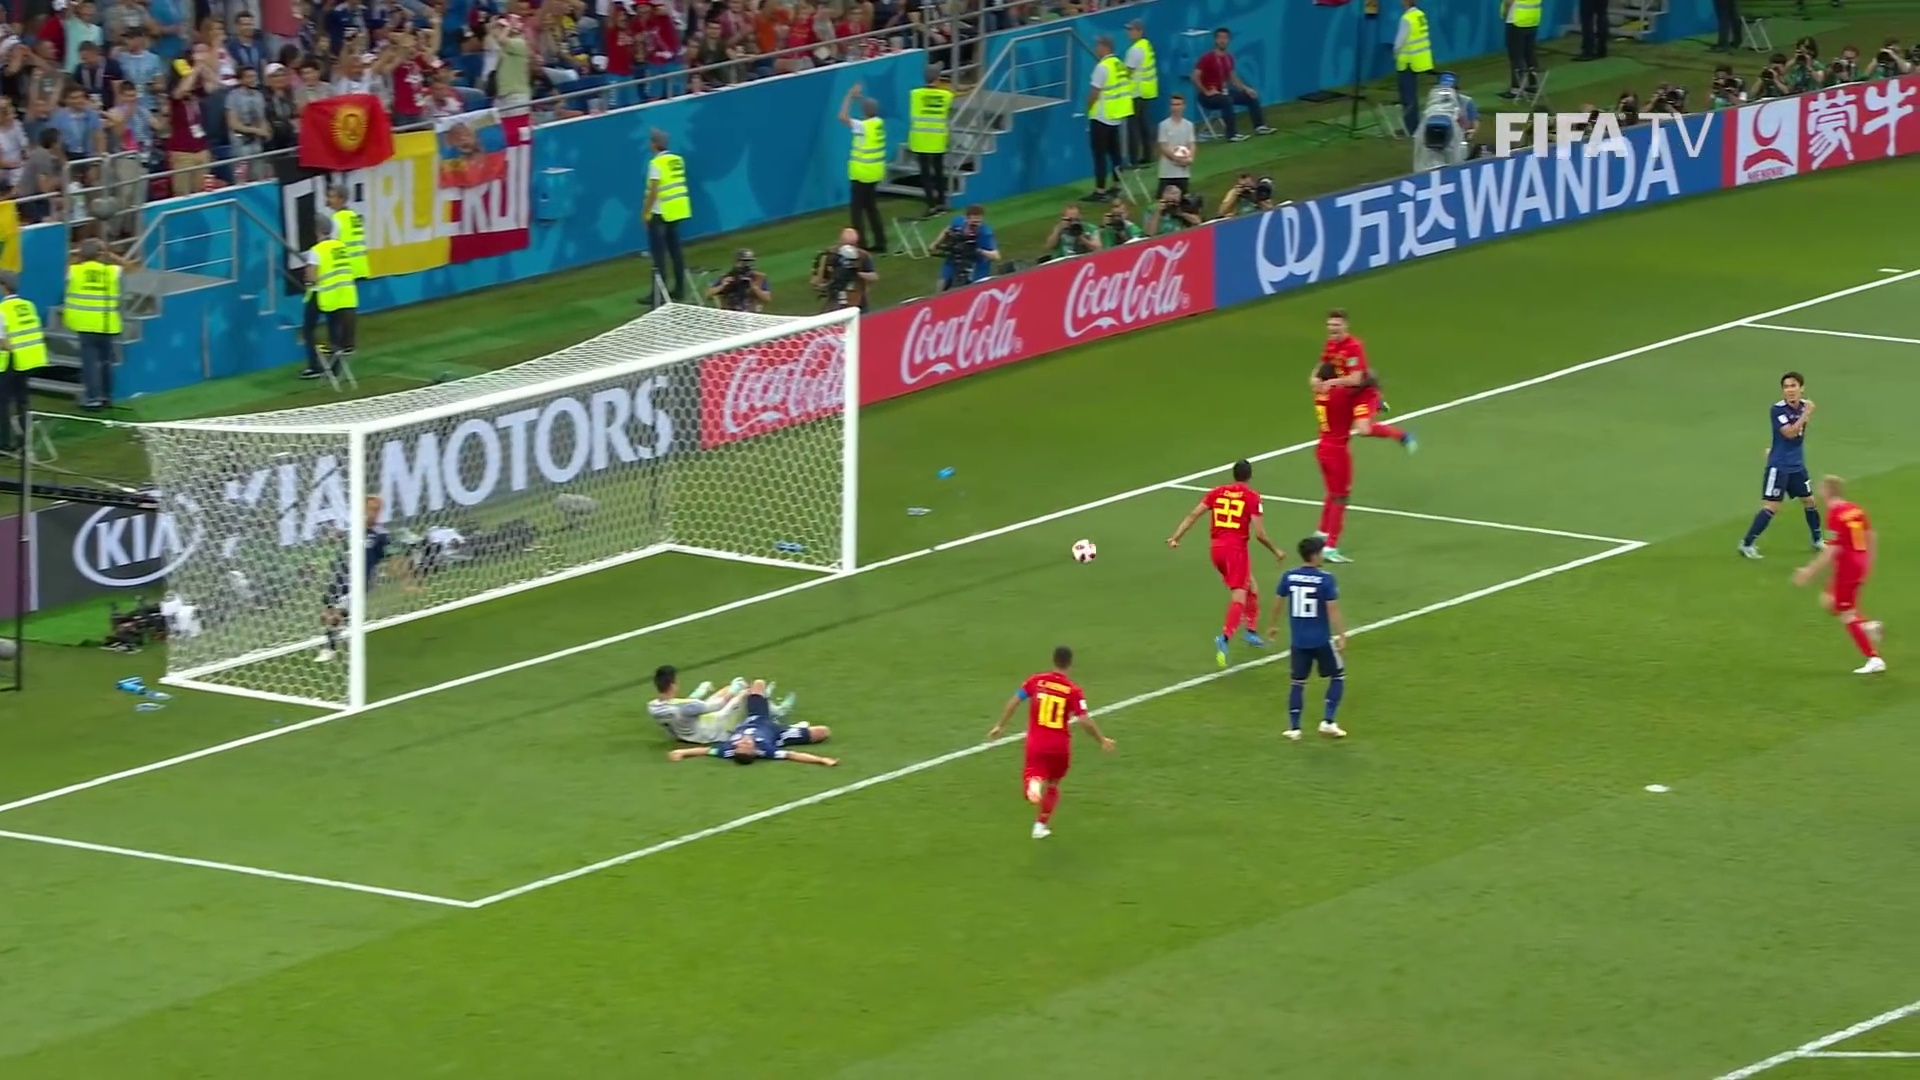ball: (1073, 540, 1096, 562)
person: (987, 645, 1113, 837), (1183, 459, 1273, 674), (1798, 474, 1887, 673), (1279, 535, 1356, 741), (318, 492, 398, 669), (674, 679, 836, 766), (1744, 372, 1821, 553), (1322, 308, 1416, 451), (651, 664, 798, 737), (1316, 372, 1361, 559)
